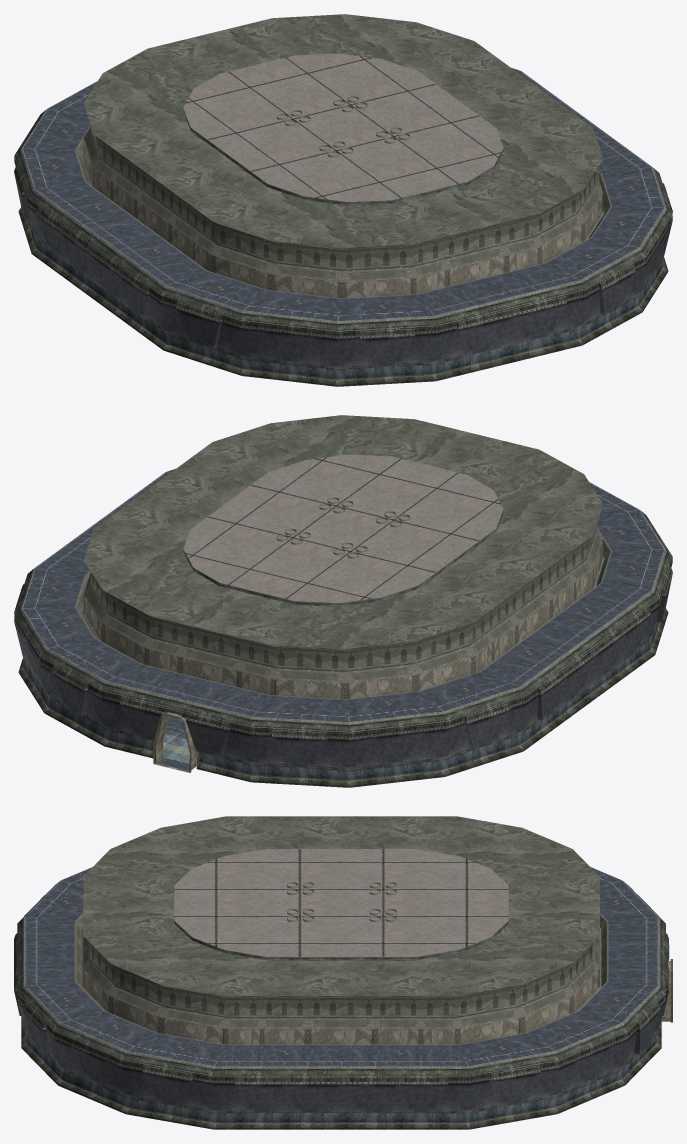
The model's file is thm_yavn_jedi_enclave_light_r24_trainingroom_mesh_r24.fbx.
The picture shows the model from 3 angles, top to bottom: view 1: azimuth 30°, elevation 25°; view 2: azimuth 150°, elevation 25°; view 3: azimuth 270°, elevation 25°; orthographic projection. The views are drawn at different scales.
Parts seen in each view (by area): view 1: mesh_node; view 2: mesh_node; view 3: mesh_node.
Boxes of the visible parts, x1=… form: mesh_node: x1=14, y1=14, x2=672, y2=386; mesh_node: x1=14, y1=415, x2=672, y2=787; mesh_node: x1=14, y1=816, x2=672, y2=1129.
Size of the model in its own units: 30.92 by 7 by 36.13.
